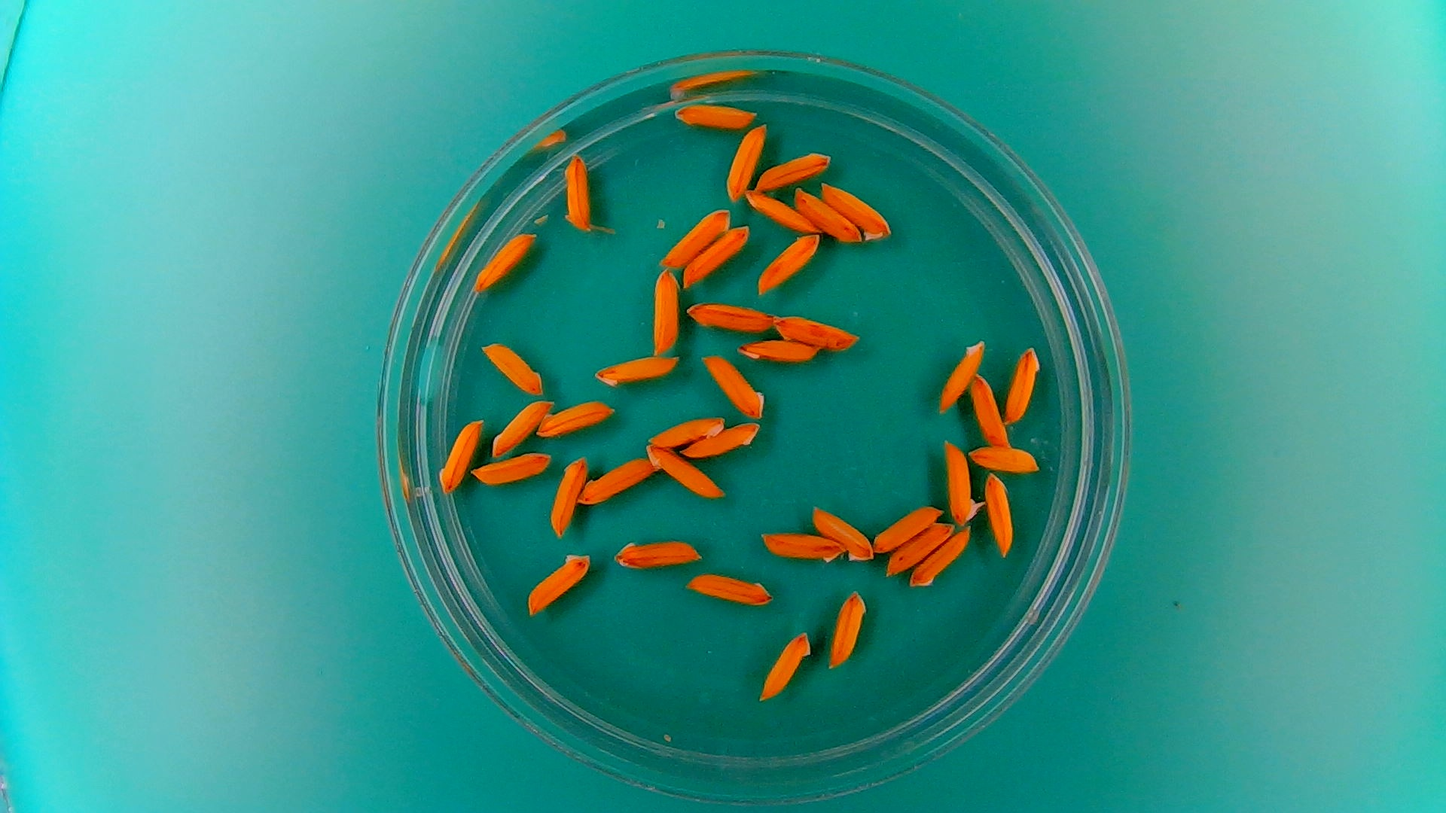no: (523, 549, 593, 619), (680, 221, 752, 287), (644, 442, 725, 500), (657, 205, 730, 268), (699, 351, 766, 419), (821, 180, 894, 241), (471, 228, 537, 294), (757, 627, 813, 702), (756, 230, 822, 293), (909, 524, 973, 588), (577, 455, 655, 507), (794, 184, 862, 243), (435, 415, 484, 496), (886, 519, 956, 575), (810, 502, 874, 563), (490, 397, 554, 458), (477, 340, 545, 397), (870, 501, 944, 553), (937, 336, 986, 413), (770, 310, 862, 351), (548, 451, 590, 537), (610, 534, 705, 572), (683, 568, 775, 607), (827, 586, 869, 671), (757, 527, 848, 566), (742, 187, 819, 233), (725, 122, 768, 204), (968, 371, 1011, 449), (534, 398, 616, 438), (753, 149, 833, 190), (557, 153, 599, 231), (593, 352, 679, 390), (644, 412, 729, 450), (470, 449, 554, 487), (680, 419, 761, 458), (685, 298, 775, 333), (983, 469, 1017, 559), (1004, 343, 1042, 423), (650, 266, 680, 355), (673, 100, 758, 131), (732, 336, 819, 364), (966, 443, 1042, 475)
yes: (943, 437, 984, 527)
